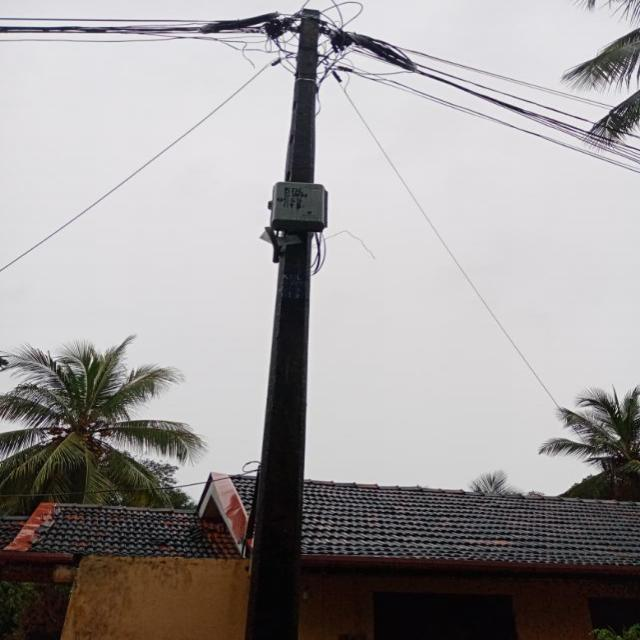light_pole: (236, 9, 342, 640)
